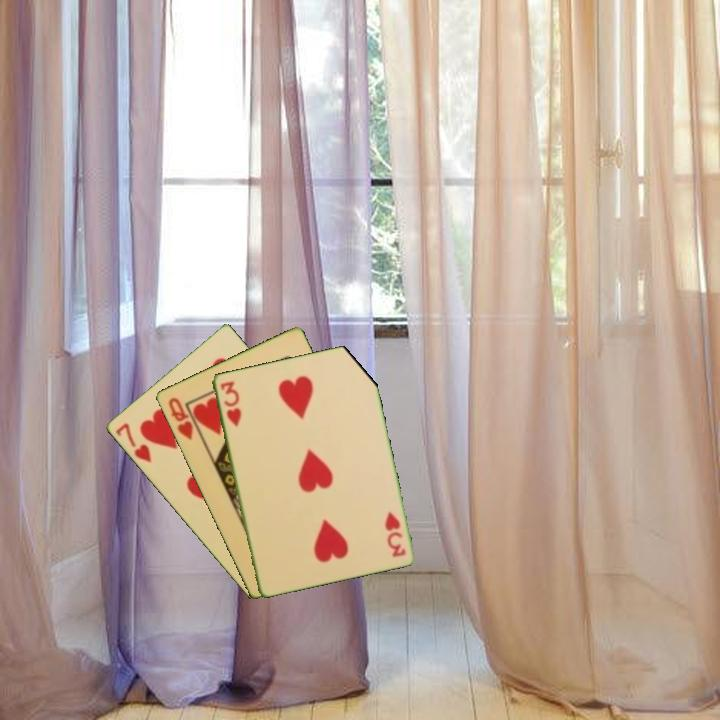3h: (217, 377, 244, 429), (381, 508, 408, 560)
7h: (112, 419, 154, 465)
Qh: (164, 394, 196, 443)
